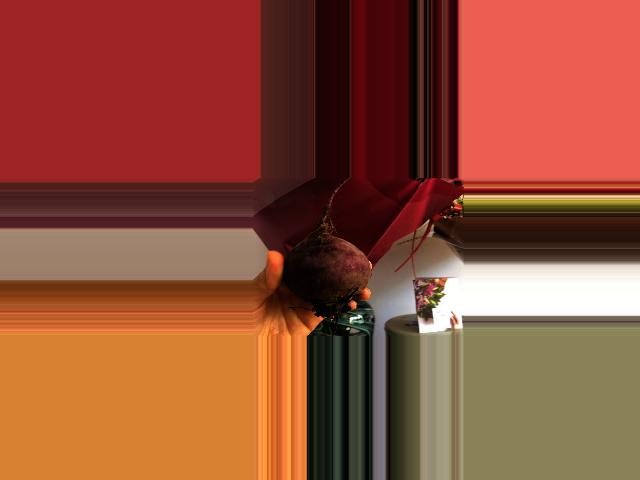beet: (283, 178, 371, 336)
